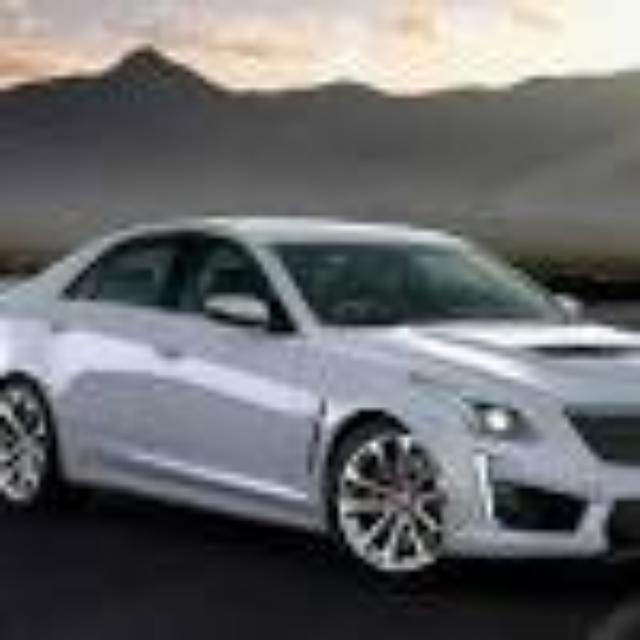cadillac: (0, 217, 640, 586)
